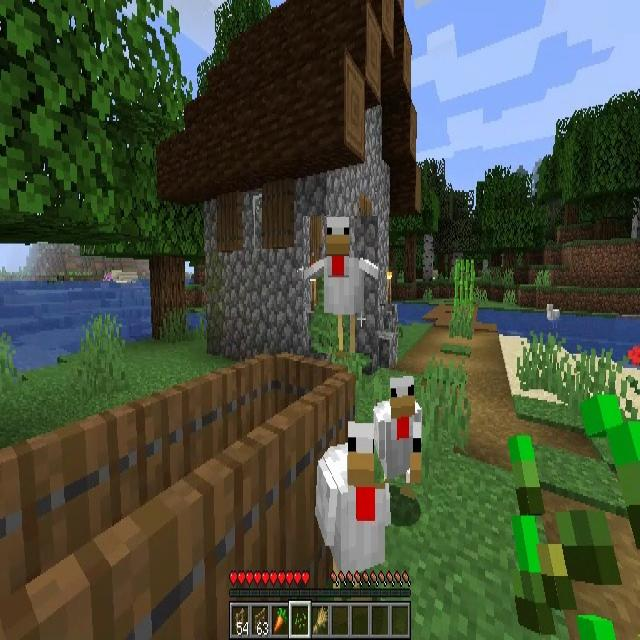duck: (314, 422, 390, 575), (303, 216, 378, 353), (374, 376, 421, 484), (546, 303, 560, 328)
